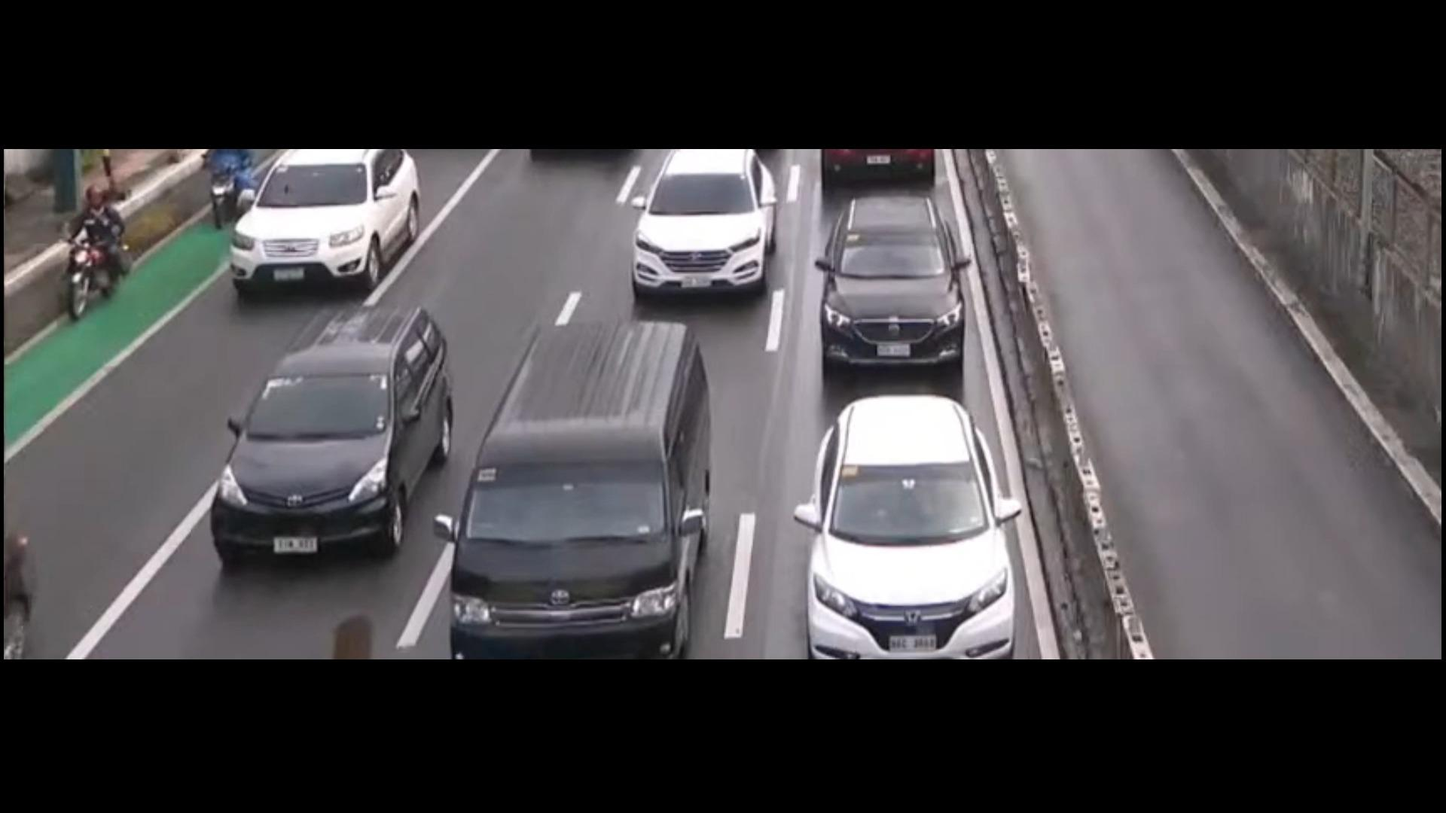Motorcycle: (66, 180, 131, 325), (202, 149, 255, 233)
SUV: (214, 307, 453, 568), (798, 395, 1012, 661), (224, 152, 419, 301), (631, 152, 775, 301)
Sedan: (822, 199, 964, 369)
Van: (443, 322, 712, 662)
